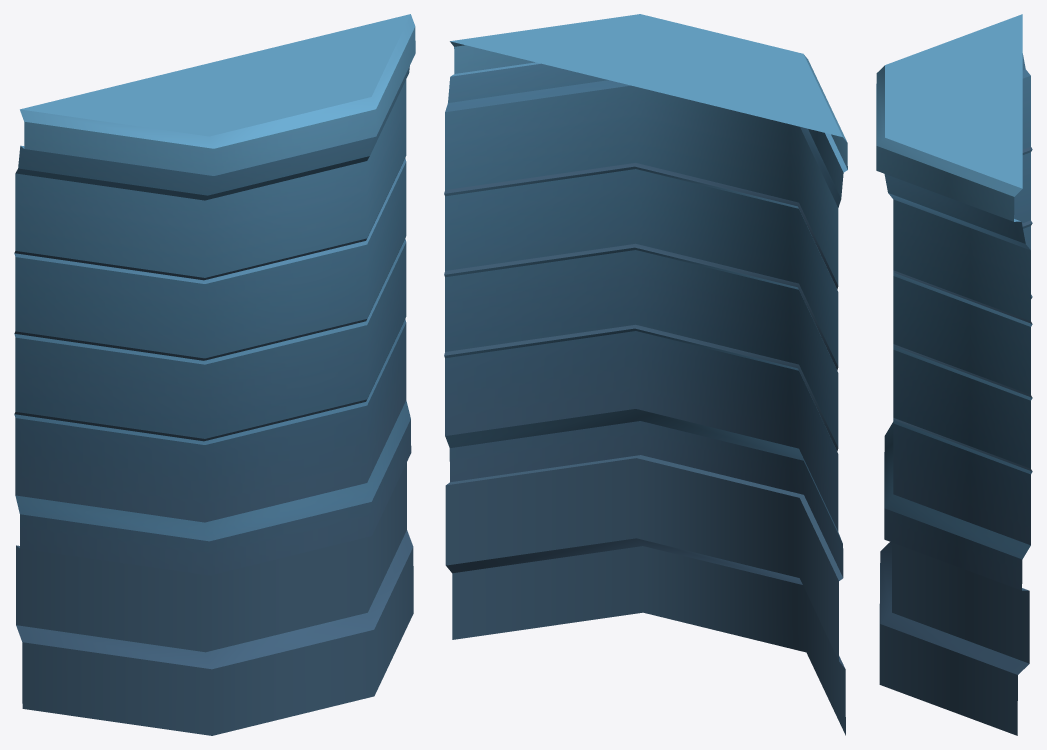
Rendered from Pillar 02.002.fbx.
3 views of the same model, side by side, from view 1: azimuth 30°, elevation 25°; view 2: azimuth 150°, elevation 25°; view 3: azimuth 270°, elevation 25° (orthographic). The views are drawn at different scales.
Parts seen in each view (by area): view 1: Pillar 02.002; view 2: Pillar 02.002; view 3: Pillar 02.002.
Boxes of the visible parts, <box> form: Pillar 02.002: <box>14,14,415,735</box>; Pillar 02.002: <box>444,14,847,735</box>; Pillar 02.002: <box>876,14,1032,735</box>.
Size of the model in its own units: 200 by 292 by 75.66.
